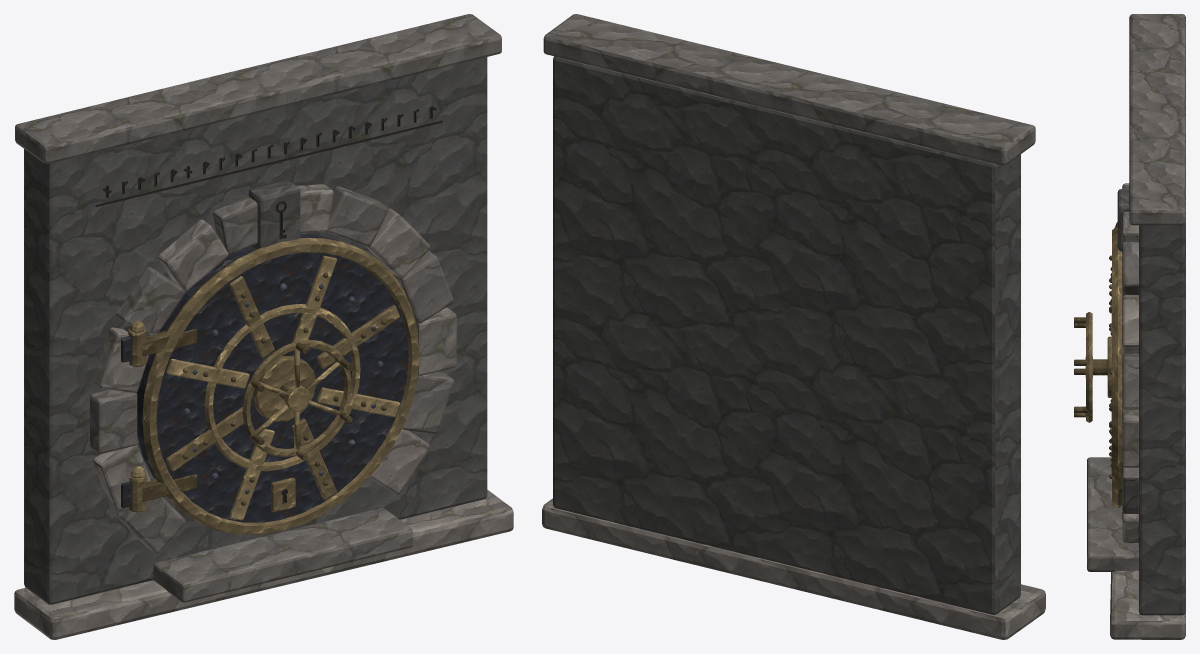
The model's file is bv_vault_door.glb.
The picture shows the model from 3 angles, left to right: view 1: azimuth 30°, elevation 25°; view 2: azimuth 150°, elevation 25°; view 3: azimuth 270°, elevation 25°; orthographic projection. The views are drawn at different scales.
Parts seen in each view (by area): view 1: model; view 2: model; view 3: model.
Boxes of the visible parts, left/top/right/bottom form: model: left=14, top=14, right=513, bottom=639; model: left=542, top=14, right=1045, bottom=639; model: left=1074, top=14, right=1185, bottom=639.
Bounding box in the file's own units: 2 × 2.02 × 0.475.
10 materials, 9 textured.
